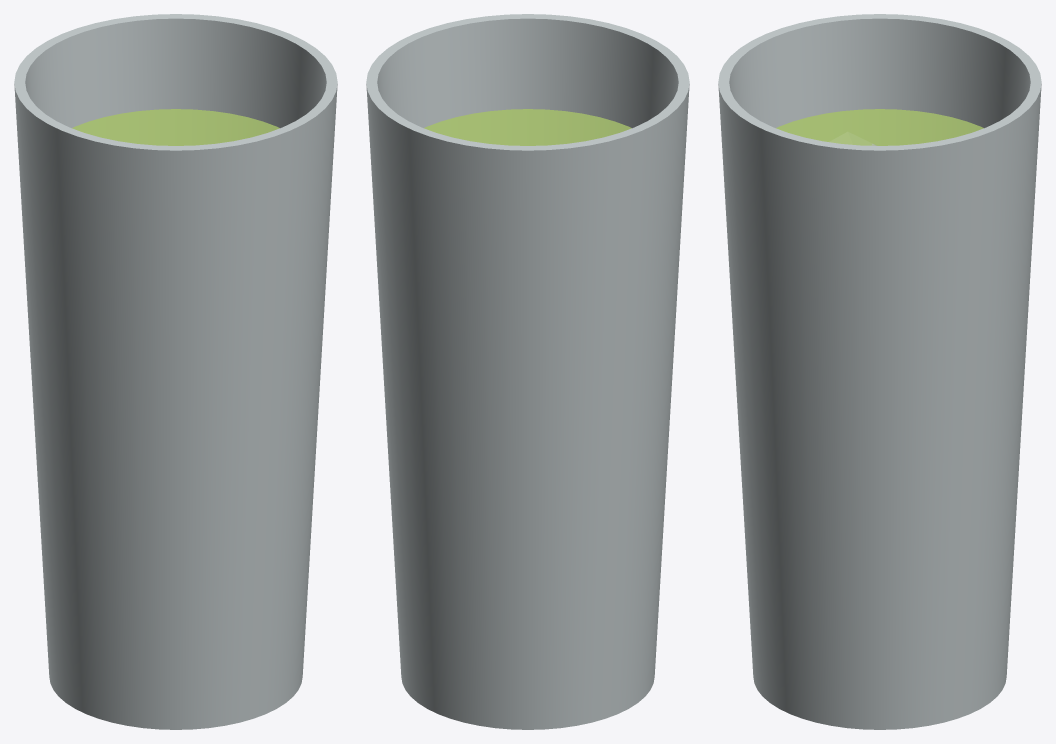
Rendered from copo_suco-verde.glb.
3 renders of one model, left to right at view 1: azimuth 30°, elevation 25°; view 2: azimuth 150°, elevation 25°; view 3: azimuth 270°, elevation 25°, orthographic.
Parts seen in each view (by area): view 1: copo_suco-verde; view 2: copo_suco-verde; view 3: copo_suco-verde.
Boxes of the visible parts, left/top/right/bottom form: copo_suco-verde: left=14, top=14, right=337, bottom=729; copo_suco-verde: left=366, top=14, right=689, bottom=729; copo_suco-verde: left=718, top=14, right=1041, bottom=729.
Bounding box in the file's own units: 0.074 × 0.15 × 0.074.
